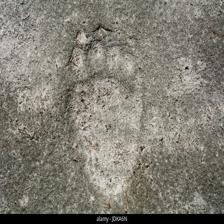bear: (59, 22, 147, 188)
